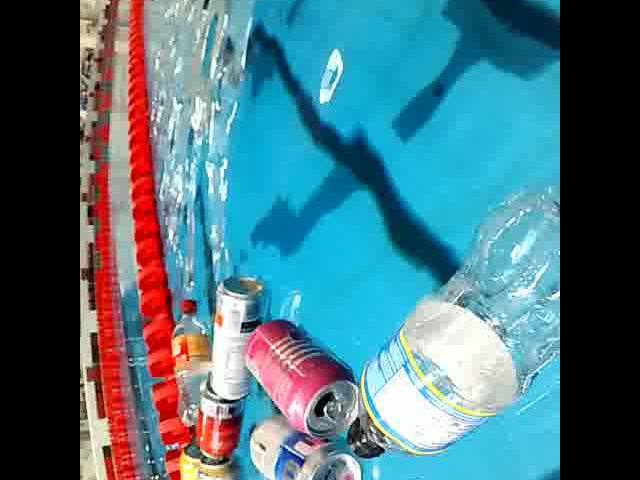Bottle: (342, 166, 560, 465), (168, 290, 218, 428)
Can: (240, 316, 366, 444), (246, 415, 370, 480), (208, 269, 268, 403), (192, 372, 246, 466), (197, 449, 251, 480), (177, 432, 211, 480)
